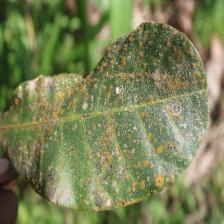red rust: (0, 20, 209, 211)
